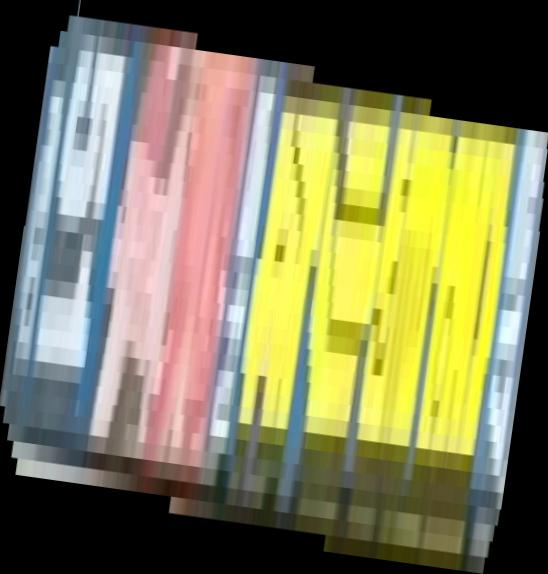flat: (1, 1, 548, 574)
